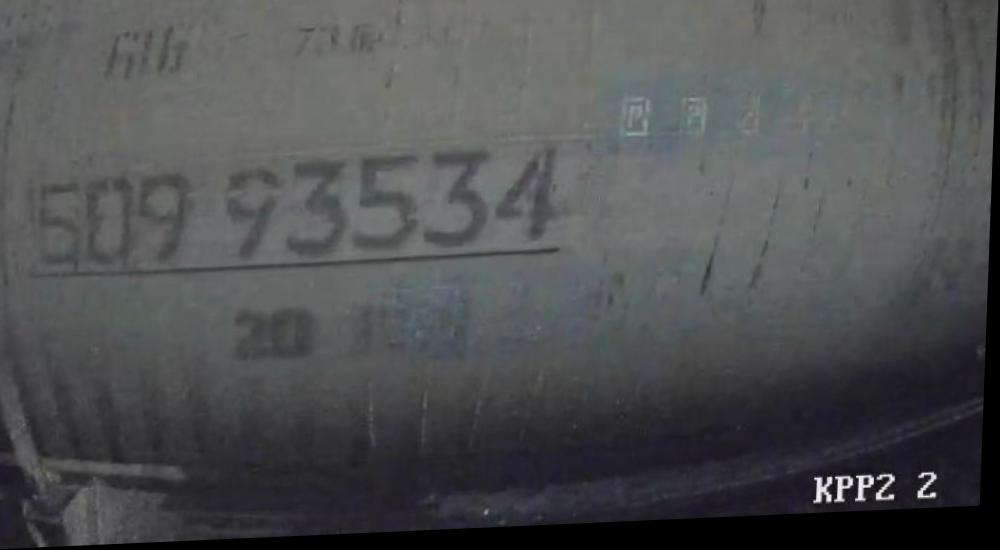Wagon-number: (27, 145, 564, 275)
